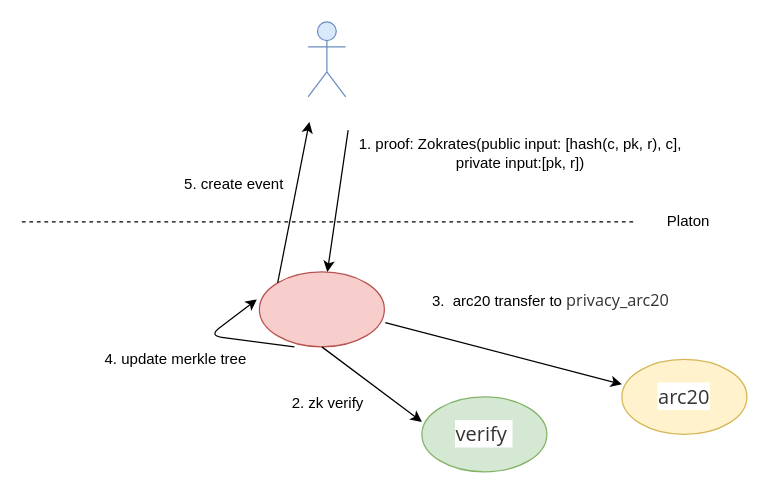
Image size: 769x494. Some labels were removed from this diagram. Here are the shapes that lost their labels. From the top down, the centre of each, then its label:
At pixel 326 59: "Actor".
At pixel 321 309: "privacy_arc20".
